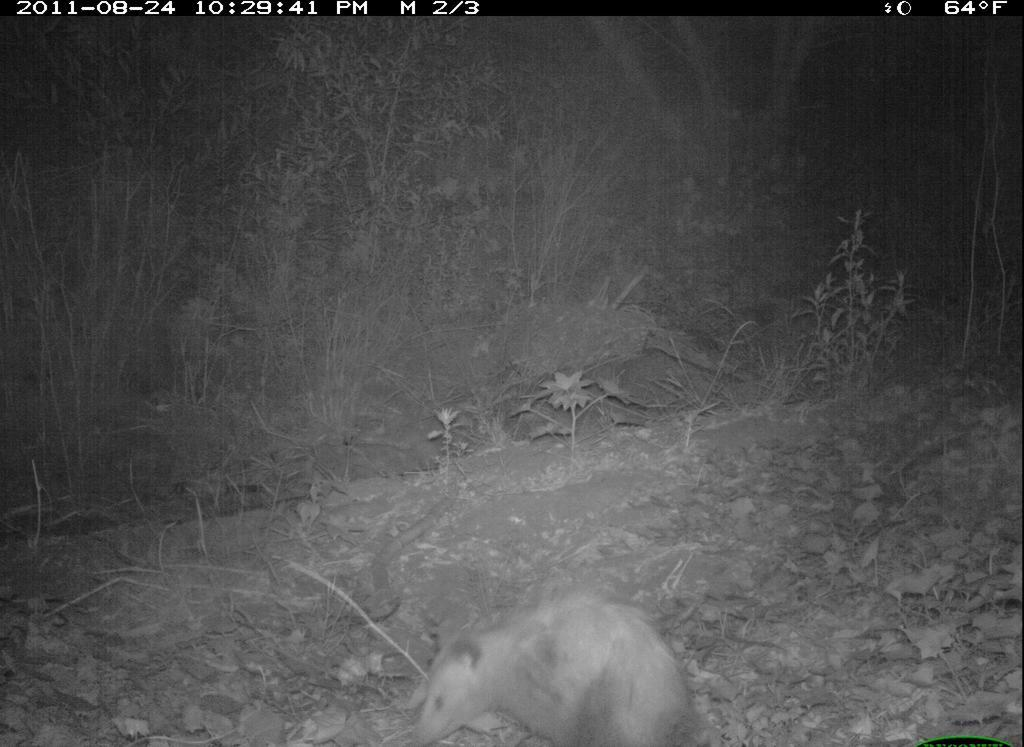opossum: (408, 589, 703, 747)
